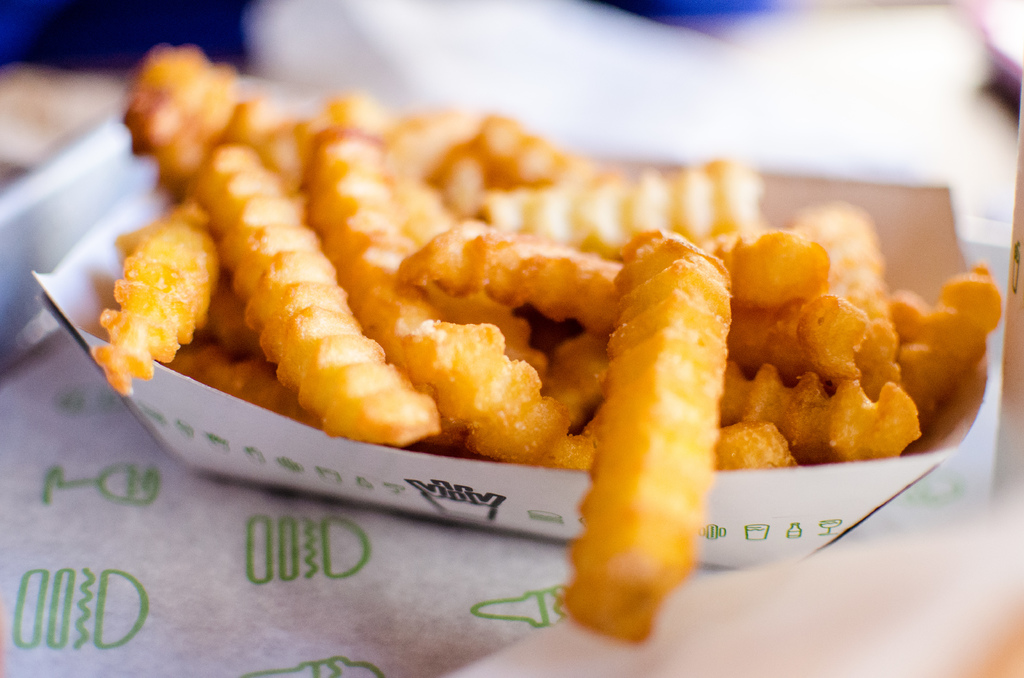French fries: (64, 85, 989, 537)
